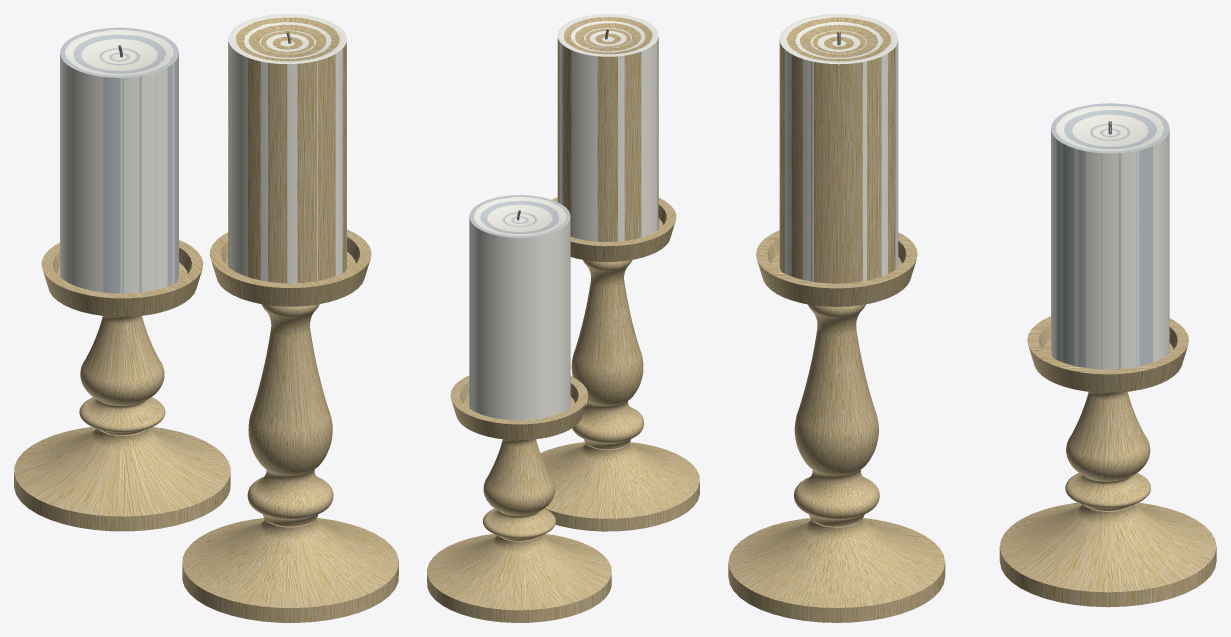
File: velas-en-candelabro-individual.glb
3 renders of one model, left to right at view 1: azimuth 30°, elevation 25°; view 2: azimuth 150°, elevation 25°; view 3: azimuth 270°, elevation 25°, orthographic. The views are drawn at different scales.
Parts seen in each view (by area): view 1: SketchUp, SketchUp.015, SketchUp.011, SketchUp.014; view 2: SketchUp, SketchUp.015, SketchUp.011, SketchUp.014; view 3: SketchUp, SketchUp.015, SketchUp.014, SketchUp.011.
Part boxes in pixels (x1=…): SketchUp: x1=14, y1=17, x2=398, y2=622; SketchUp.015: x1=60, y1=30, x2=178, y2=293; SketchUp.011: x1=228, y1=14, x2=346, y2=283; SketchUp.014: x1=60, y1=27, x2=178, y2=293; SketchUp: x1=427, y1=17, x2=699, y2=622; SketchUp.015: x1=471, y1=197, x2=570, y2=420; SketchUp.011: x1=557, y1=14, x2=658, y2=241; SketchUp.014: x1=469, y1=195, x2=570, y2=417; SketchUp: x1=728, y1=17, x2=1216, y2=622; SketchUp.015: x1=1051, y1=106, x2=1169, y2=369; SketchUp.014: x1=1051, y1=103, x2=1169, y2=369; SketchUp.011: x1=779, y1=14, x2=898, y2=281.
Bounding box in the file's own units: 0.1497 × 0.354 × 0.2876.
4 materials, 1 textured.
